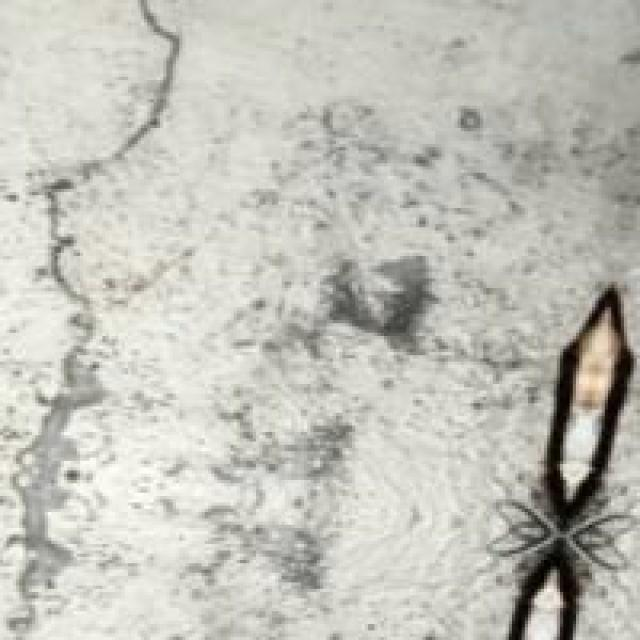SurfaceCrack: (10, 0, 204, 640)
